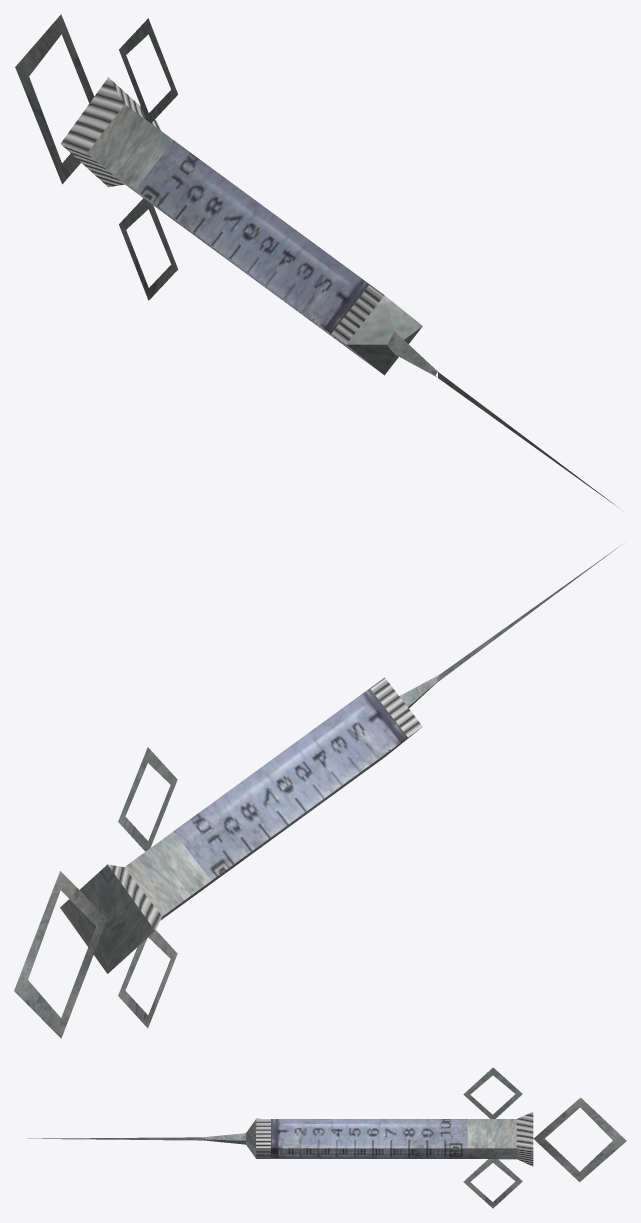
3 views of the same model, one above another, from view 1: azimuth 30°, elevation 25°; view 2: azimuth 150°, elevation 25°; view 3: azimuth 270°, elevation 25° (orthographic). The views are drawn at different scales.
Visible parts, largest first — view 1: Syringe; view 2: Syringe; view 3: Syringe.
Boxes of the visible parts, x1,y1,x2,y2 form: Syringe: [15, 14, 618, 507]; Syringe: [14, 545, 620, 1038]; Syringe: [27, 1067, 626, 1208].
Bounding box in the file's own units: 0.3198 × 0.9029 × 3.55.
1 material, 1 textured.
